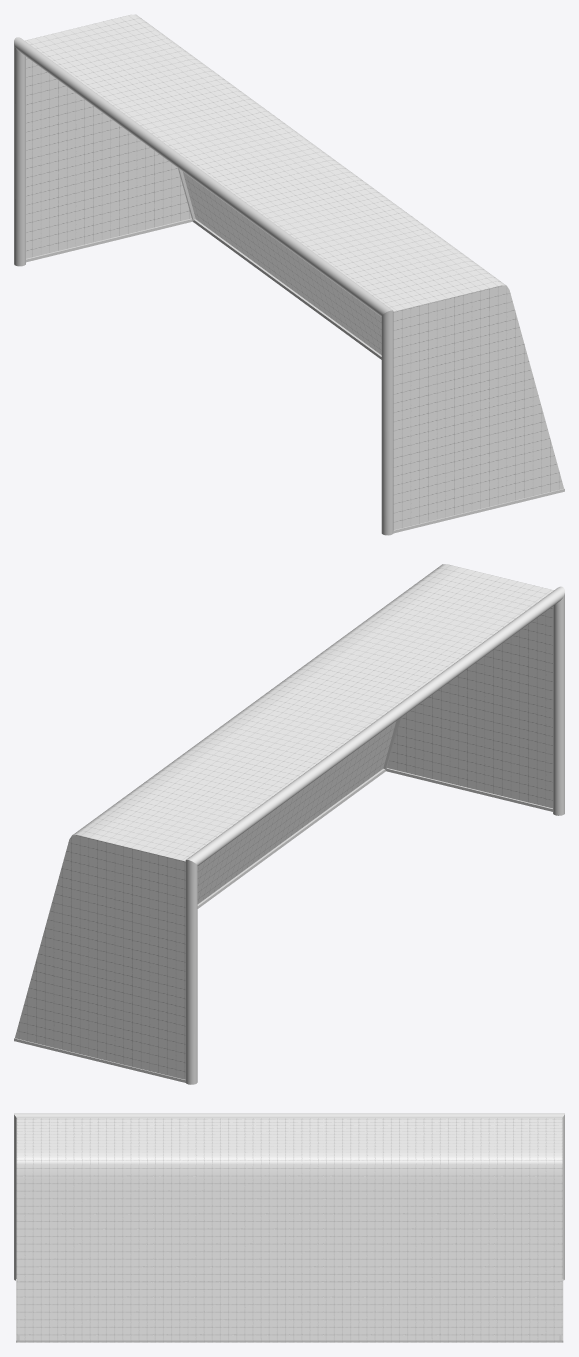
The model's file is Trave01.FBX.
The picture shows the model from 3 angles, top to bottom: view 1: azimuth 30°, elevation 25°; view 2: azimuth 150°, elevation 25°; view 3: azimuth 270°, elevation 25°; orthographic projection. The views are drawn at different scales.
Parts seen in each view (by area): view 1: Rede01, Trave01, Arco01; view 2: Rede01, Trave01, Arco01; view 3: Rede01, Trave01, Arco01.
Part boxes in pixels (bbox=[...]): Rede01: bbox=[25, 14, 563, 529]; Trave01: bbox=[14, 37, 393, 535]; Arco01: bbox=[26, 168, 564, 533]; Rede01: bbox=[15, 564, 553, 1079]; Trave01: bbox=[185, 586, 564, 1084]; Arco01: bbox=[14, 718, 552, 1082]; Rede01: bbox=[16, 1118, 562, 1342]; Trave01: bbox=[14, 1113, 564, 1280]; Arco01: bbox=[16, 1279, 563, 1342].
Size of the model in its own units: 2.08 by 2.46 by 7.42.
